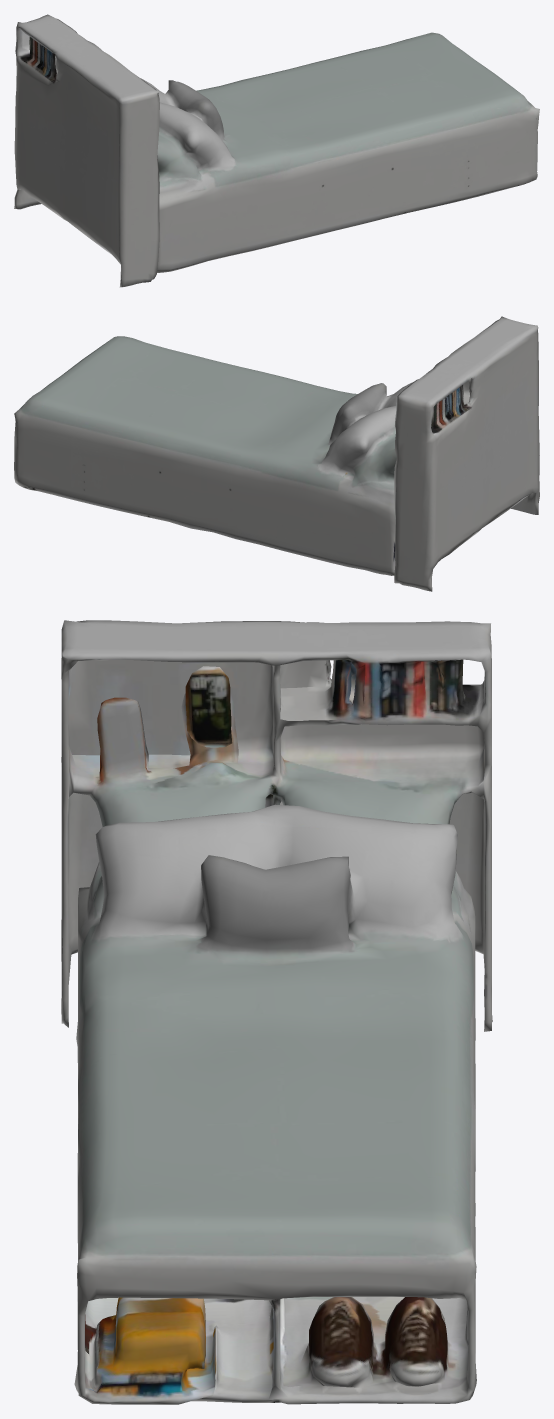
File: bed.fbx
The picture shows the model from 3 angles, top to bottom: view 1: azimuth 30°, elevation 25°; view 2: azimuth 150°, elevation 25°; view 3: azimuth 270°, elevation 25°; orthographic projection. The views are drawn at different scales.
Visible parts, largest first — view 1: tripo_node_e947ea24; view 2: tripo_node_e947ea24; view 3: tripo_node_e947ea24.
Boxes of the visible parts, x1,y1,x2,y2 form: tripo_node_e947ea24: [14, 14, 539, 287]; tripo_node_e947ea24: [14, 316, 539, 591]; tripo_node_e947ea24: [61, 620, 492, 1404].
Size of the model in its own units: 1 by 0.4264 by 0.4416.
1 material, 1 textured.
